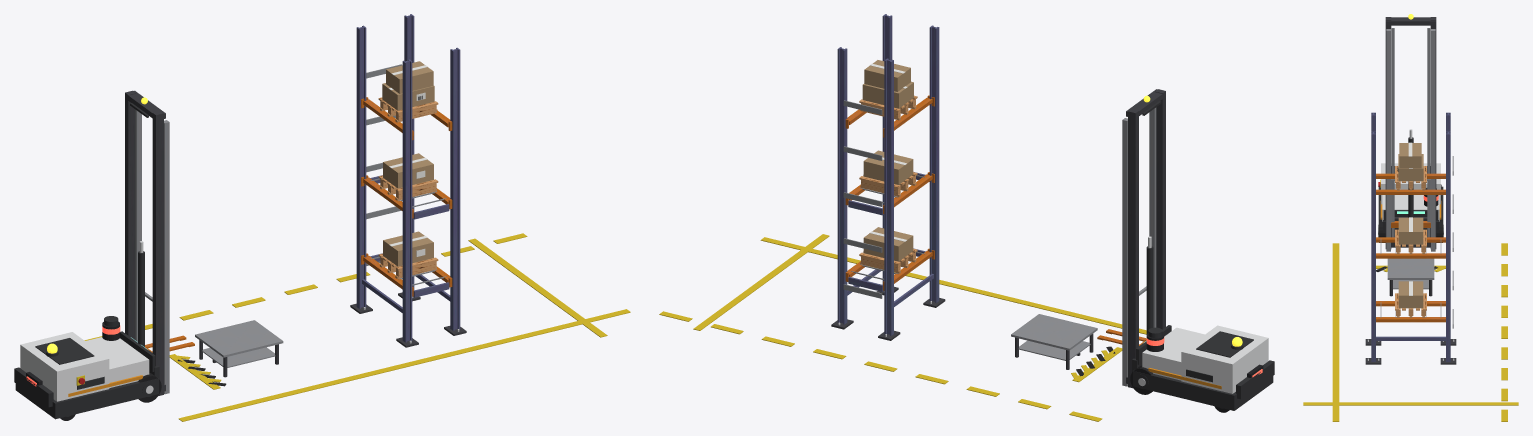
Rendered from agv_twin.glb.
3 renders of one model, left to right at view 1: azimuth 30°, elevation 25°; view 2: azimuth 150°, elevation 25°; view 3: azimuth 270°, elevation 25°, orthographic. The views are drawn at different scales.
Visible parts, largest first — view 1: shell_rear, mast_outer_-0.048, mast_outer_0.048, line_lane, base, stage_top, shell_front, mast_inner_-0.048, upr_main_-1_-1_f-0.005, upr_main_-1_1_f-0.005, upr_main_1_-1_f-0.005, upr_main_-1_1_web (+15 smaller); view 2: shell_rear, mast_outer_0.048, mast_outer_-0.048, base, stage_top, mast_inner_0.048, line_lane, shell_front, upr_main_-1_-1_f-0.005, upr_main_1_1_web, upr_main_1_1_f-0.005, upr_main_-1_1_f-0.005 (+16 smaller); view 3: line_lane, upr_main_1_-1_f0.005, upr_main_1_1_f0.005, stage_top, mast_inner_0.048, mast_inner_-0.048, line_rack, chain_0.038, chain_-0.038, scar_l1, scar_l2, mast_outer_0.048 (+15 smaller).
Boxes of the visible parts, bbox=[...] form: shell_rear: bbox=[20, 332, 109, 401]; mast_outer_-0.048: bbox=[152, 111, 163, 395]; mast_outer_0.048: bbox=[125, 90, 136, 339]; line_lane: bbox=[178, 309, 630, 421]; base: bbox=[15, 377, 158, 419]; stage_top: bbox=[195, 320, 283, 357]; shell_front: bbox=[85, 337, 149, 387]; mast_inner_-0.048: bbox=[164, 120, 169, 394]; upr_main_-1_-1_f-0.005: bbox=[402, 60, 406, 342]; upr_main_-1_1_f-0.005: bbox=[356, 27, 360, 308]; upr_main_1_-1_f-0.005: bbox=[450, 49, 454, 330]; upr_main_-1_1_web: bbox=[357, 27, 363, 307]; shell_rear: bbox=[1181, 325, 1268, 393]; mast_outer_0.048: bbox=[1128, 109, 1138, 388]; mast_outer_-0.048: bbox=[1155, 89, 1165, 329]; base: bbox=[1133, 370, 1273, 410]; stage_top: bbox=[1011, 314, 1097, 350]; mast_inner_0.048: bbox=[1122, 118, 1127, 386]; line_lane: bbox=[760, 237, 1146, 334]; shell_front: bbox=[1142, 327, 1204, 380]; upr_main_-1_-1_f-0.005: bbox=[935, 27, 939, 302]; upr_main_1_1_web: bbox=[840, 48, 846, 323]; upr_main_1_1_f-0.005: bbox=[843, 48, 847, 324]; upr_main_-1_1_f-0.005: bbox=[890, 60, 893, 335]; line_lane: bbox=[1332, 243, 1339, 421]; upr_main_1_-1_f0.005: bbox=[1371, 133, 1375, 361]; upr_main_1_1_f0.005: bbox=[1446, 133, 1450, 361]; stage_top: bbox=[1387, 258, 1434, 279]; mast_inner_0.048: bbox=[1431, 29, 1435, 251]; mast_inner_-0.048: bbox=[1386, 29, 1390, 251]; line_rack: bbox=[1303, 402, 1518, 405]; chain_0.038: bbox=[1427, 28, 1430, 237]; chain_-0.038: bbox=[1391, 28, 1394, 237]; scar_l1: bbox=[1398, 281, 1423, 308]; scar_l2: bbox=[1398, 217, 1423, 244]; mast_outer_0.048: bbox=[1430, 17, 1436, 248].
Size of what is drawn, in the model's own units: 1.11 by 0.55 by 0.46.
21 materials, 5 textured.
